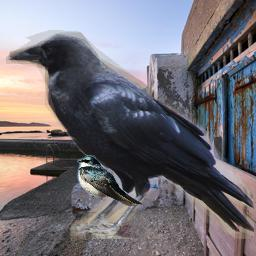Crow: (6, 30, 254, 239)
Swallow: (77, 155, 143, 206)
